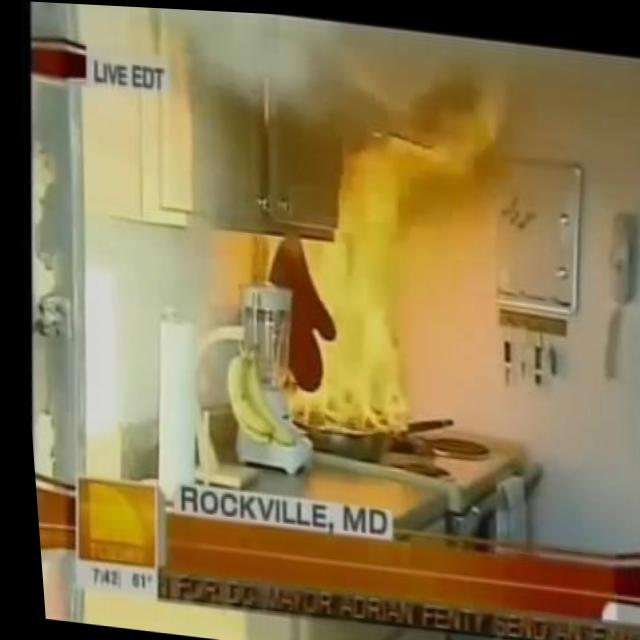fire: (228, 74, 516, 443)
